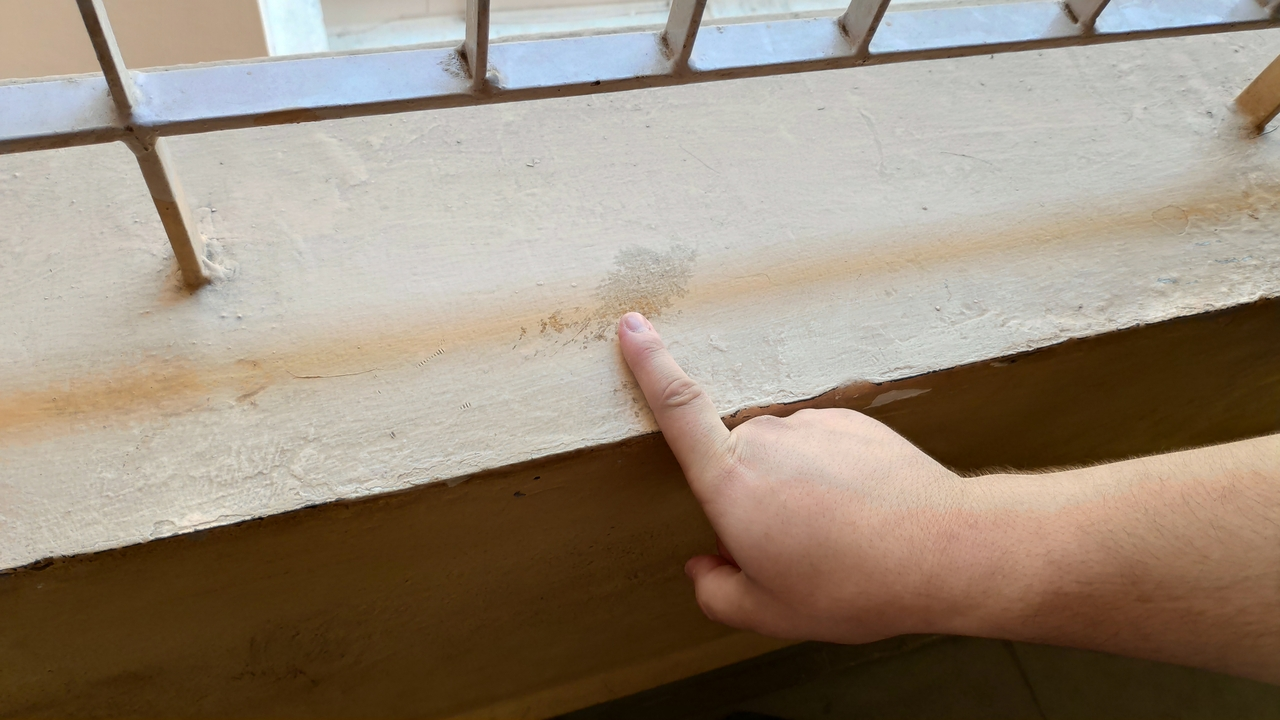fingertip: (608, 306, 662, 356)
